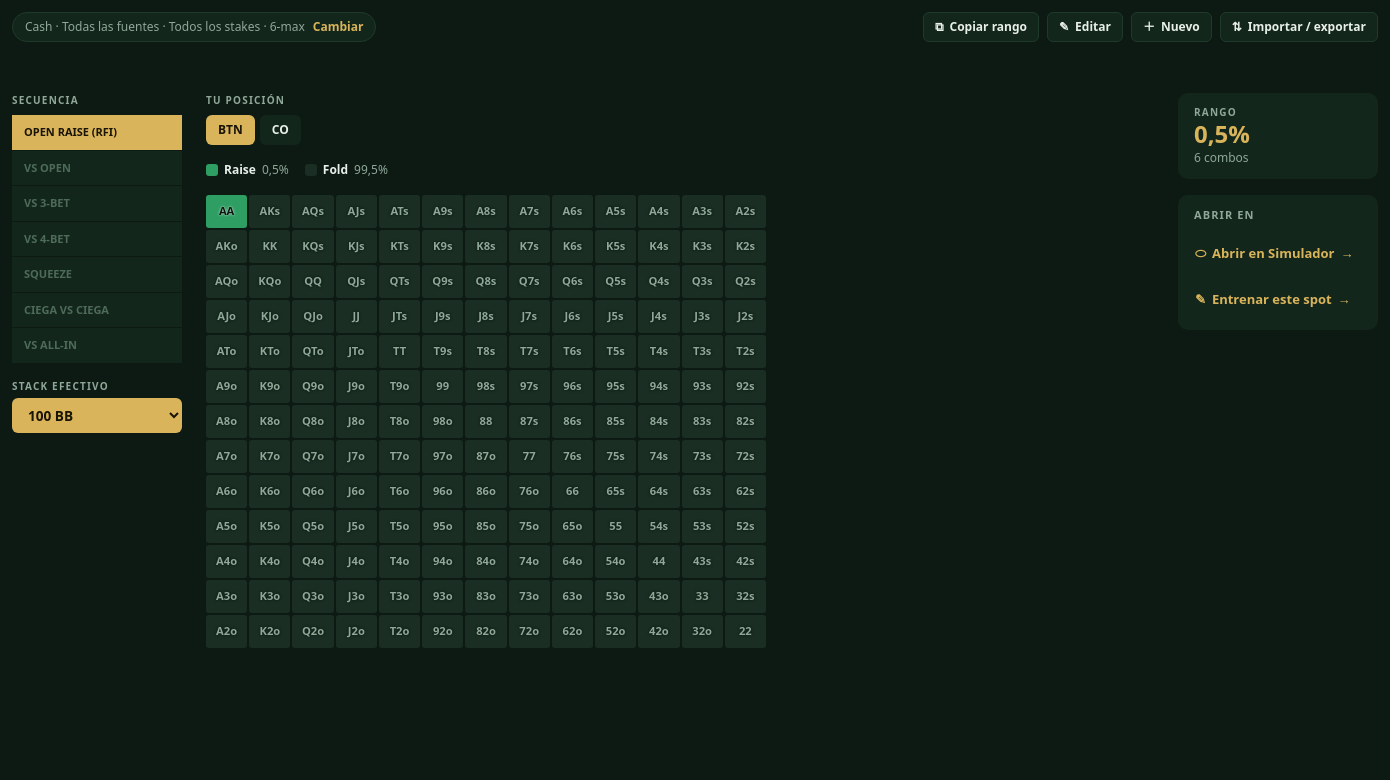
Test case: PreflopViewer › switches position and shows the hovered hand frequencies
Click the radio button labelled "CO" at (280, 130), box top-left (260, 115), bottom-right (301, 145)
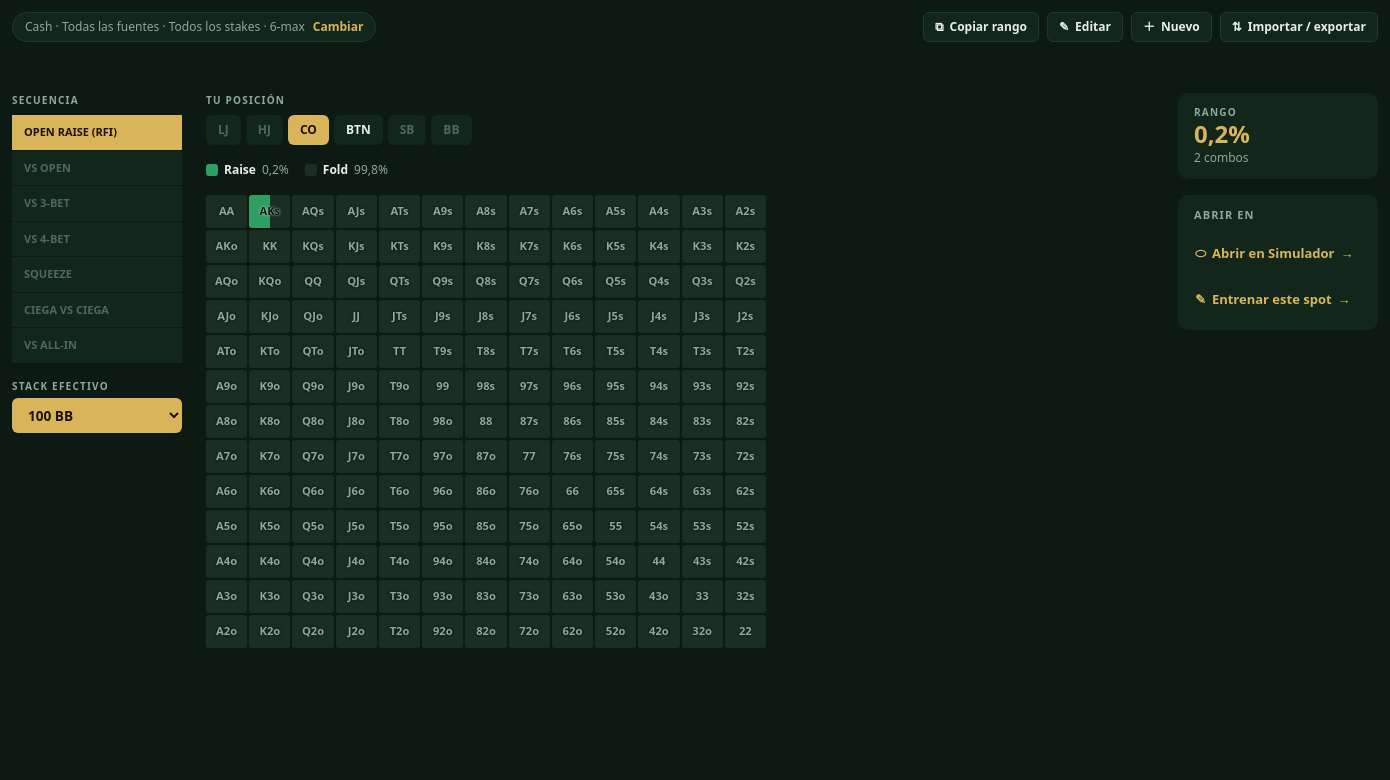
Expected: the element named "Rango CO open" is shown, top-left (206, 195), bottom-right (766, 648)
Hover over the picture "AKs" at (270, 212), box top-left (249, 195), bottom-right (290, 228)
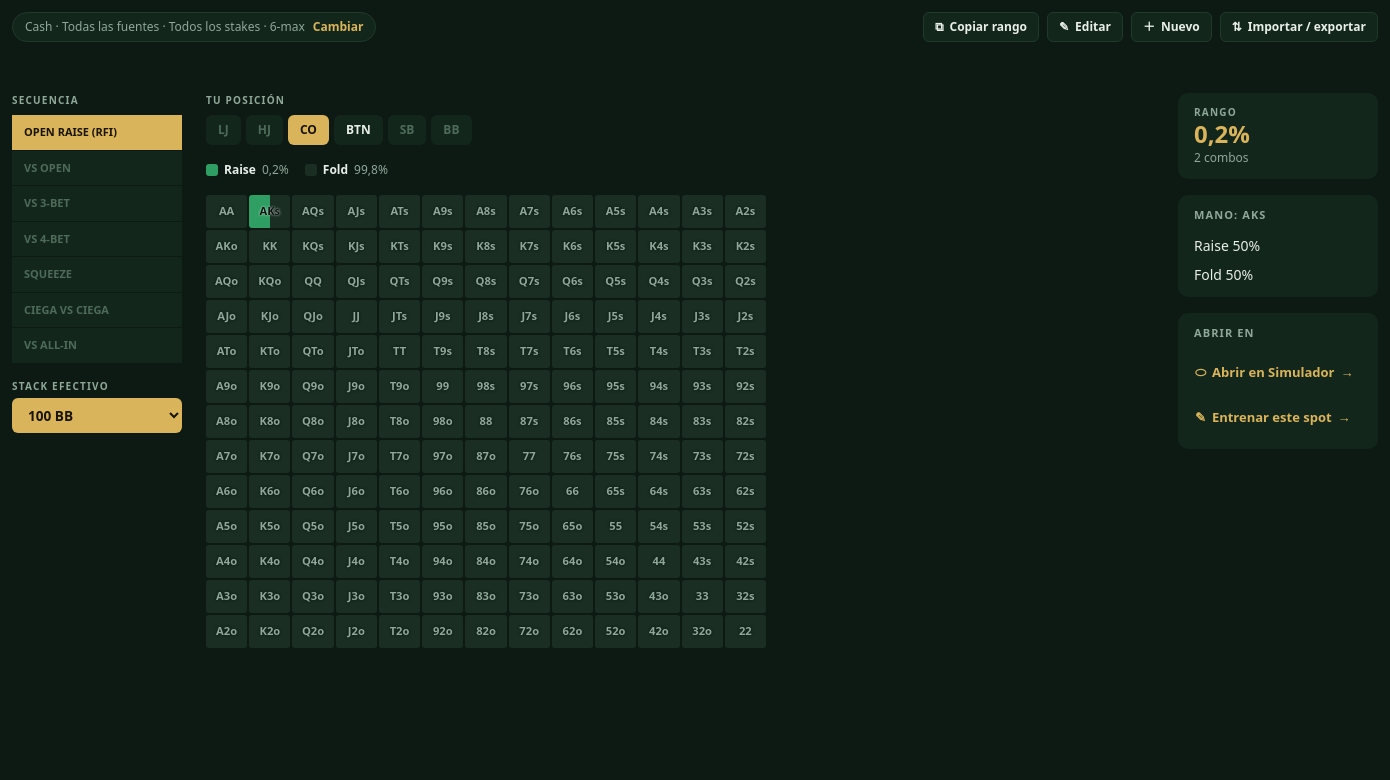
Expected: the element "Mano: AKs" shows "Raise 50%", top-left (1194, 236), bottom-right (1260, 255)
Expected: the element "Mano: AKs" shows "Fold 50%", top-left (1194, 265), bottom-right (1253, 284)
